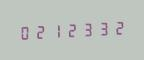one: (47, 21, 61, 40)
three: (92, 18, 106, 38), (77, 19, 91, 38)
two: (32, 22, 46, 41), (62, 20, 76, 39), (107, 18, 121, 37)
zero: (17, 22, 31, 42)
